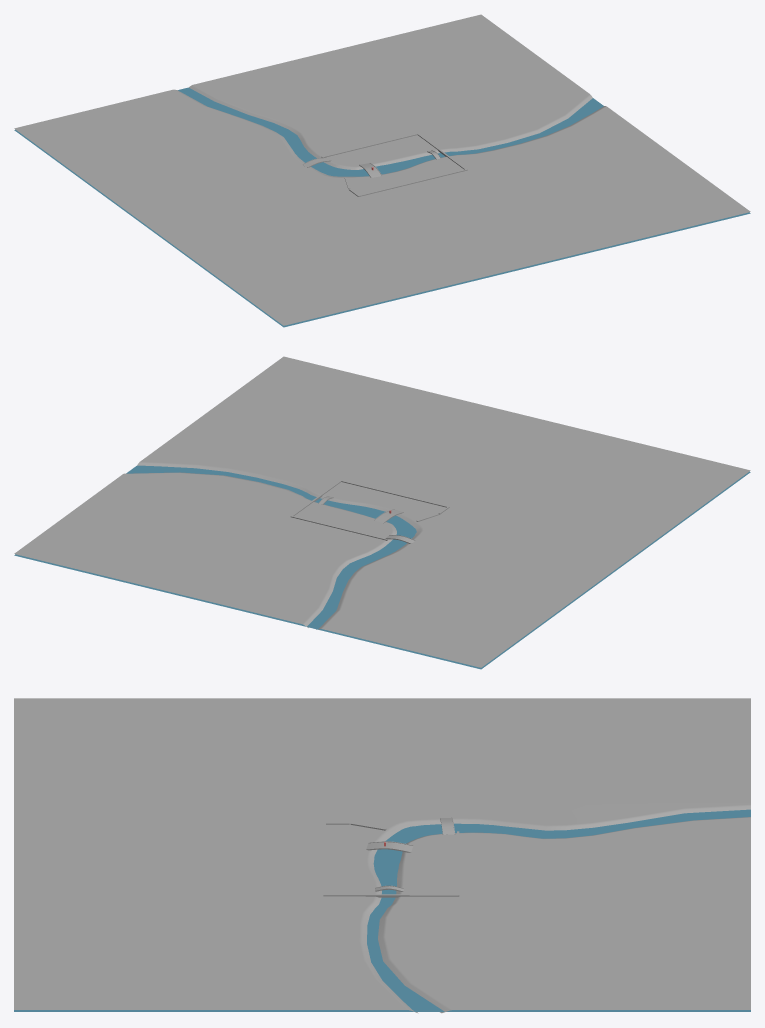
Rendered from TempMapTest2.fbx.
3 renders of one model, top to bottom at view 1: azimuth 30°, elevation 25°; view 2: azimuth 150°, elevation 25°; view 3: azimuth 270°, elevation 25°, orthographic. The views are drawn at different scales.
Parts seen in each view (by area): view 1: LandBase, River, Stroke70x55m; view 2: LandBase, River, Stroke70x55m; view 3: LandBase, River, Stroke70x55m.
Part boxes in pixels (box(x1,y1,x2,y2)): LandBase: box(14, 14, 750, 325); River: box(14, 87, 750, 327); Stroke70x55m: box(321, 133, 467, 196); LandBase: box(14, 356, 750, 667); River: box(14, 465, 750, 669); Stroke70x55m: box(290, 480, 449, 540); LandBase: box(14, 698, 750, 1013); River: box(14, 809, 750, 1011); Stroke70x55m: box(323, 822, 459, 897).
Bounding box in the file's own units: 300 × 4.21 × 300.
